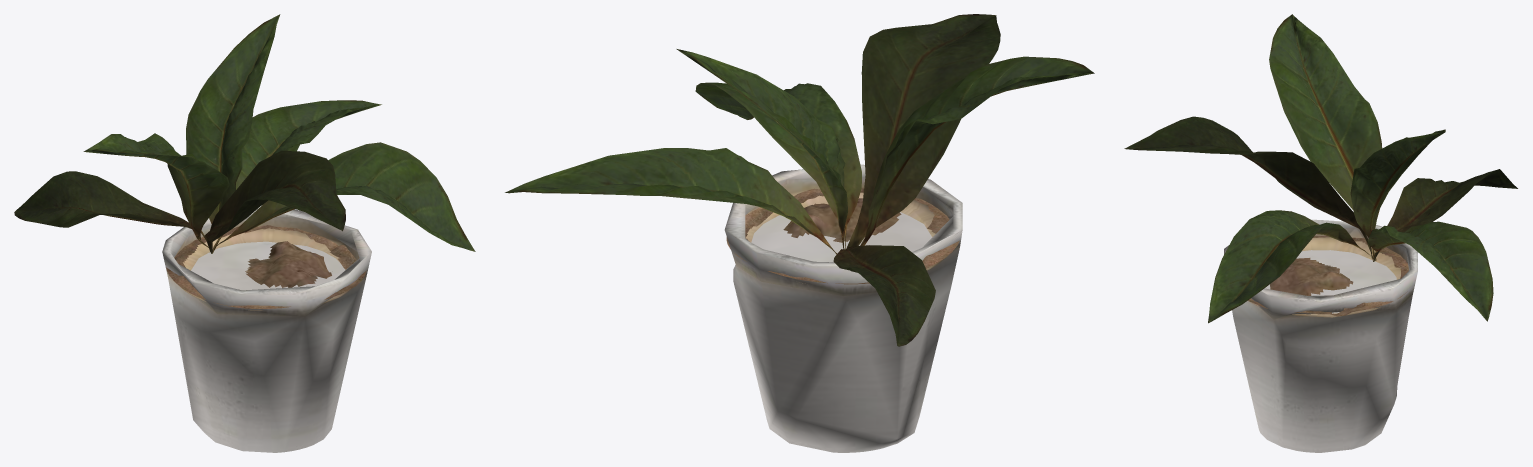
File: doniczka_anturium_1.glb
3 views of the same model, side by side, from view 1: azimuth 30°, elevation 25°; view 2: azimuth 150°, elevation 25°; view 3: azimuth 270°, elevation 25° (orthographic). The views are drawn at different scales.
Parts seen in each view (by area): view 1: roslina, doniczka, ziemia; view 2: roslina, doniczka, ziemia; view 3: roslina, doniczka, ziemia.
Boxes of the visible parts, x1,y1,x2,y2 form: roslina: (14,14,475,253); doniczka: (162,209,371,452); ziemia: (166,225,366,308); roslina: (505,14,1094,346); doniczka: (724,164,962,452); ziemia: (726,187,959,284); roslina: (1124,14,1517,323); doniczka: (1224,219,1417,452); ziemia: (1248,235,1408,316).
Size of the model in its own units: 0.313 by 0.2575 by 0.2786.
Materials: 2 (2 with a texture image).
